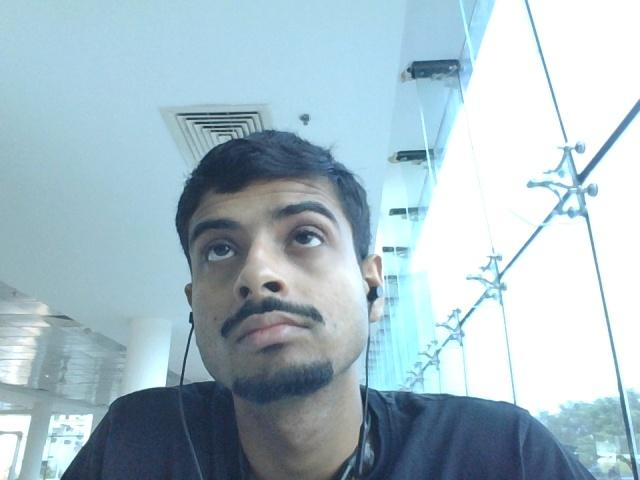average: (163, 135, 404, 398)
